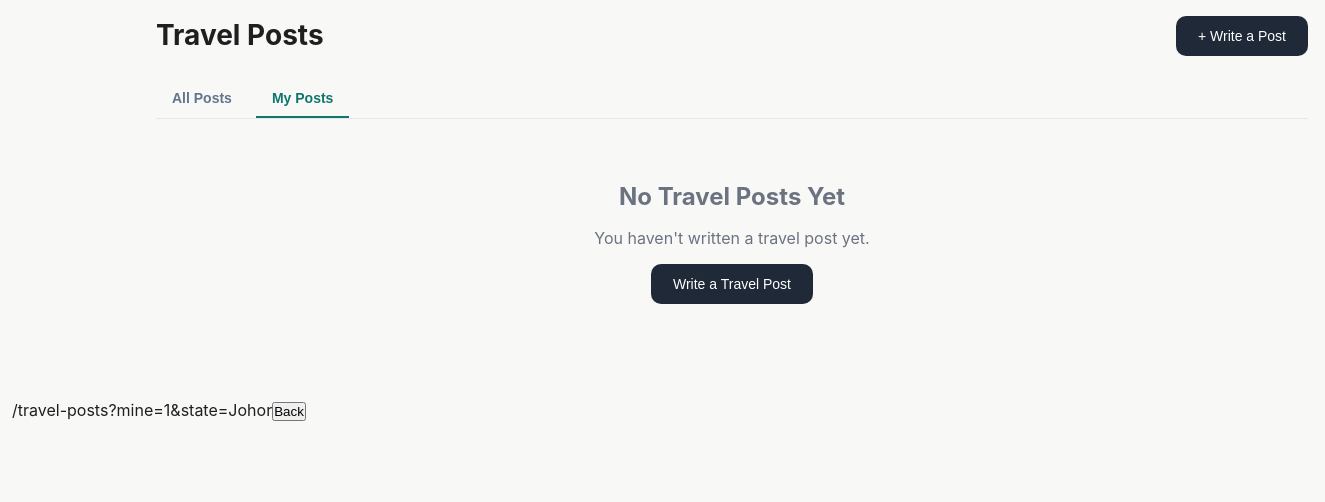
it: loads authenticated My Posts and switches to public posts
The width and height of the screenshot is (1325, 502).
Expected: the text "You haven't written a travel post yet." is shown, [594,228,870,248]
Click the button "All Posts" at (202, 99), box [156,80,248,118]
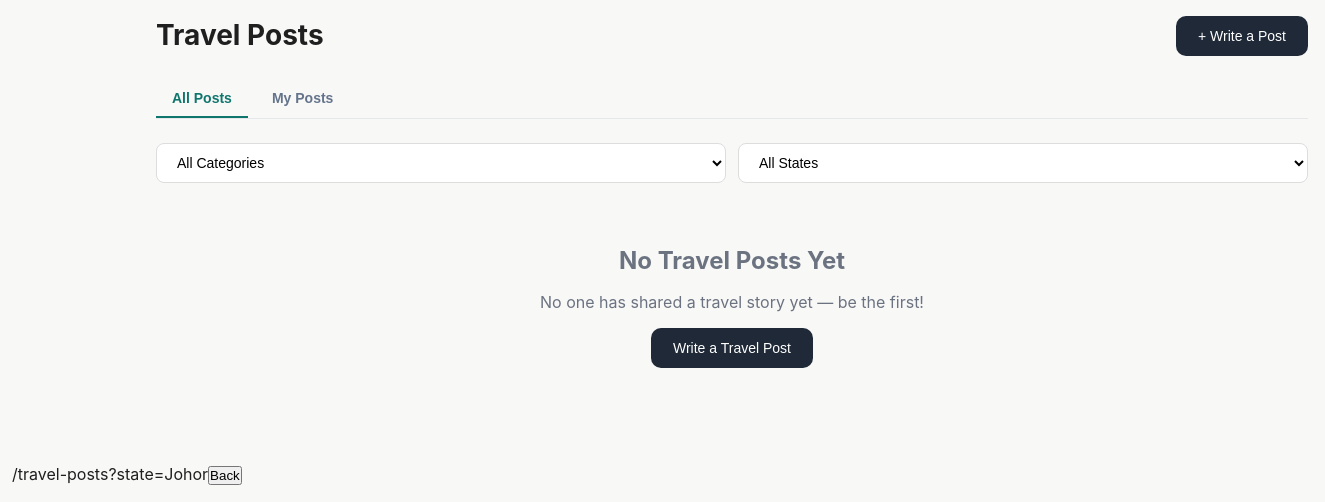
Now the text with test id "url" reads "/travel-posts?state=Johor", box [12,464,208,484]
